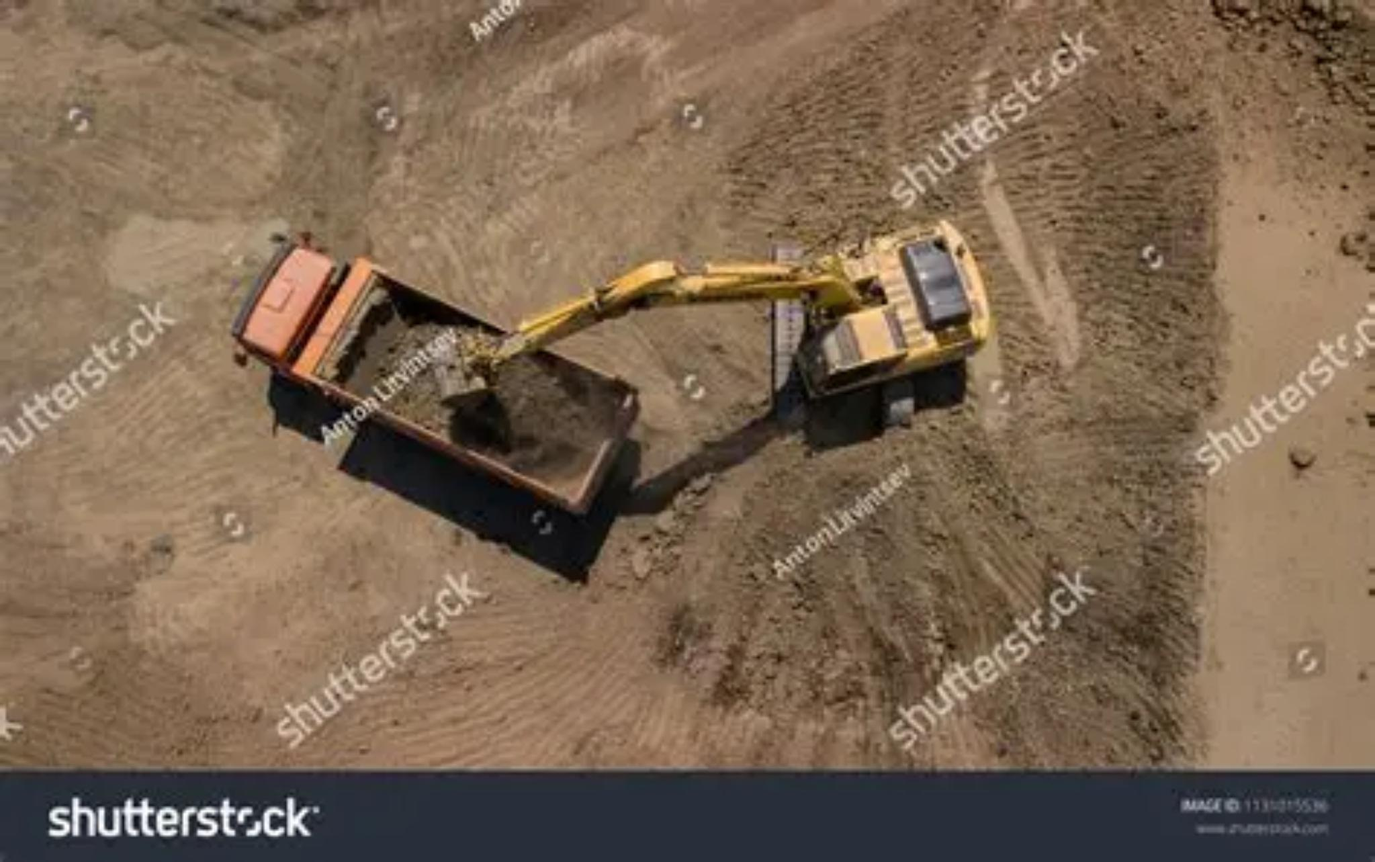excavator: (517, 221, 990, 421)
truck: (235, 244, 638, 514)
